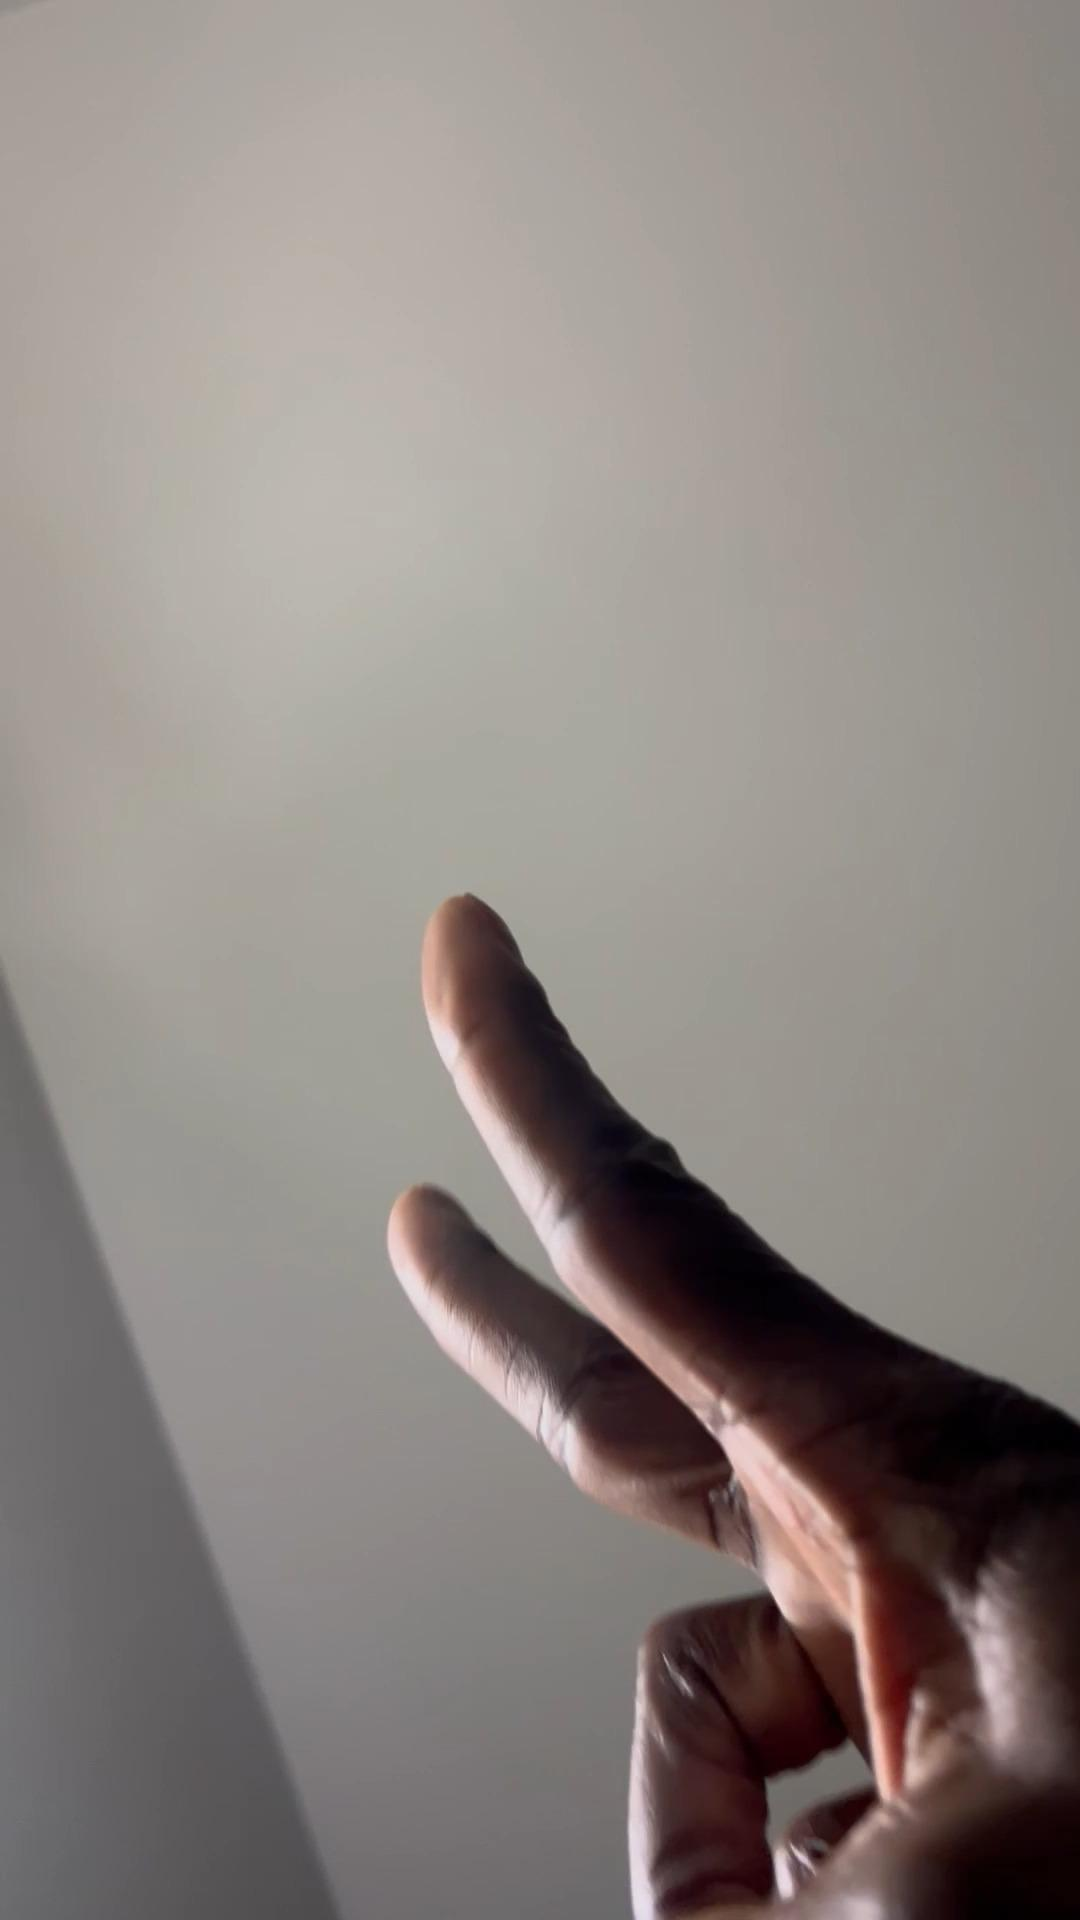Scissors: (386, 890, 1080, 1920)
